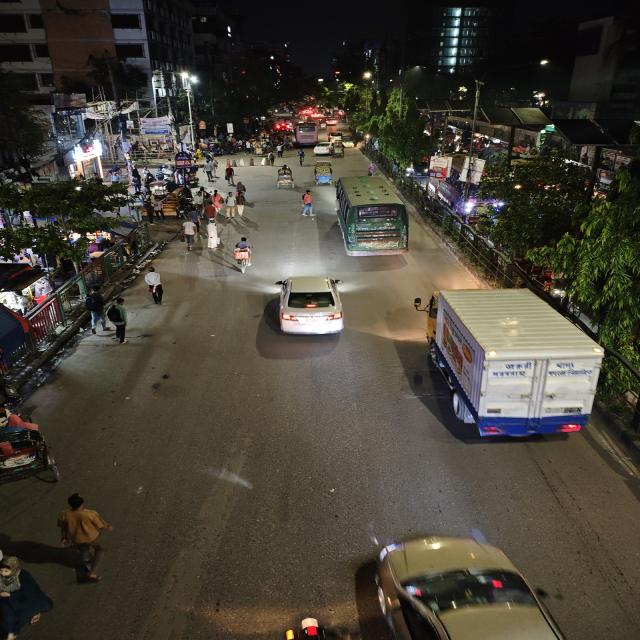bicycle: (230, 235, 257, 273)
bus: (331, 174, 414, 262), (294, 123, 320, 145)
car: (352, 524, 606, 640), (267, 272, 353, 344), (313, 141, 333, 157), (327, 129, 343, 141)
cng: (342, 135, 355, 148)
pedestrian: (51, 491, 124, 589), (102, 296, 136, 344), (83, 287, 108, 333), (141, 266, 167, 306), (176, 218, 199, 250), (202, 217, 224, 250), (227, 191, 250, 221), (298, 188, 318, 218), (185, 206, 203, 236), (224, 192, 240, 220), (224, 162, 236, 184), (205, 164, 218, 182), (235, 179, 248, 197), (296, 150, 307, 166)
pickup_van: (311, 162, 334, 186)
rickshaw: (0, 402, 68, 490), (275, 165, 296, 189), (333, 144, 344, 158)
truck: (418, 286, 609, 450)
